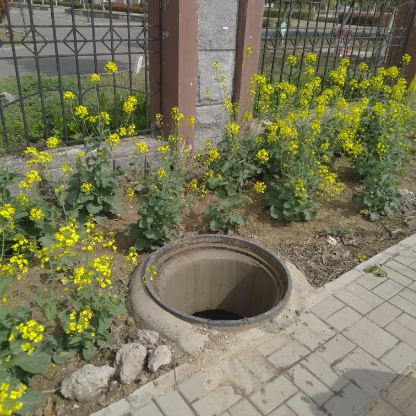lose: (141, 233, 292, 329)
